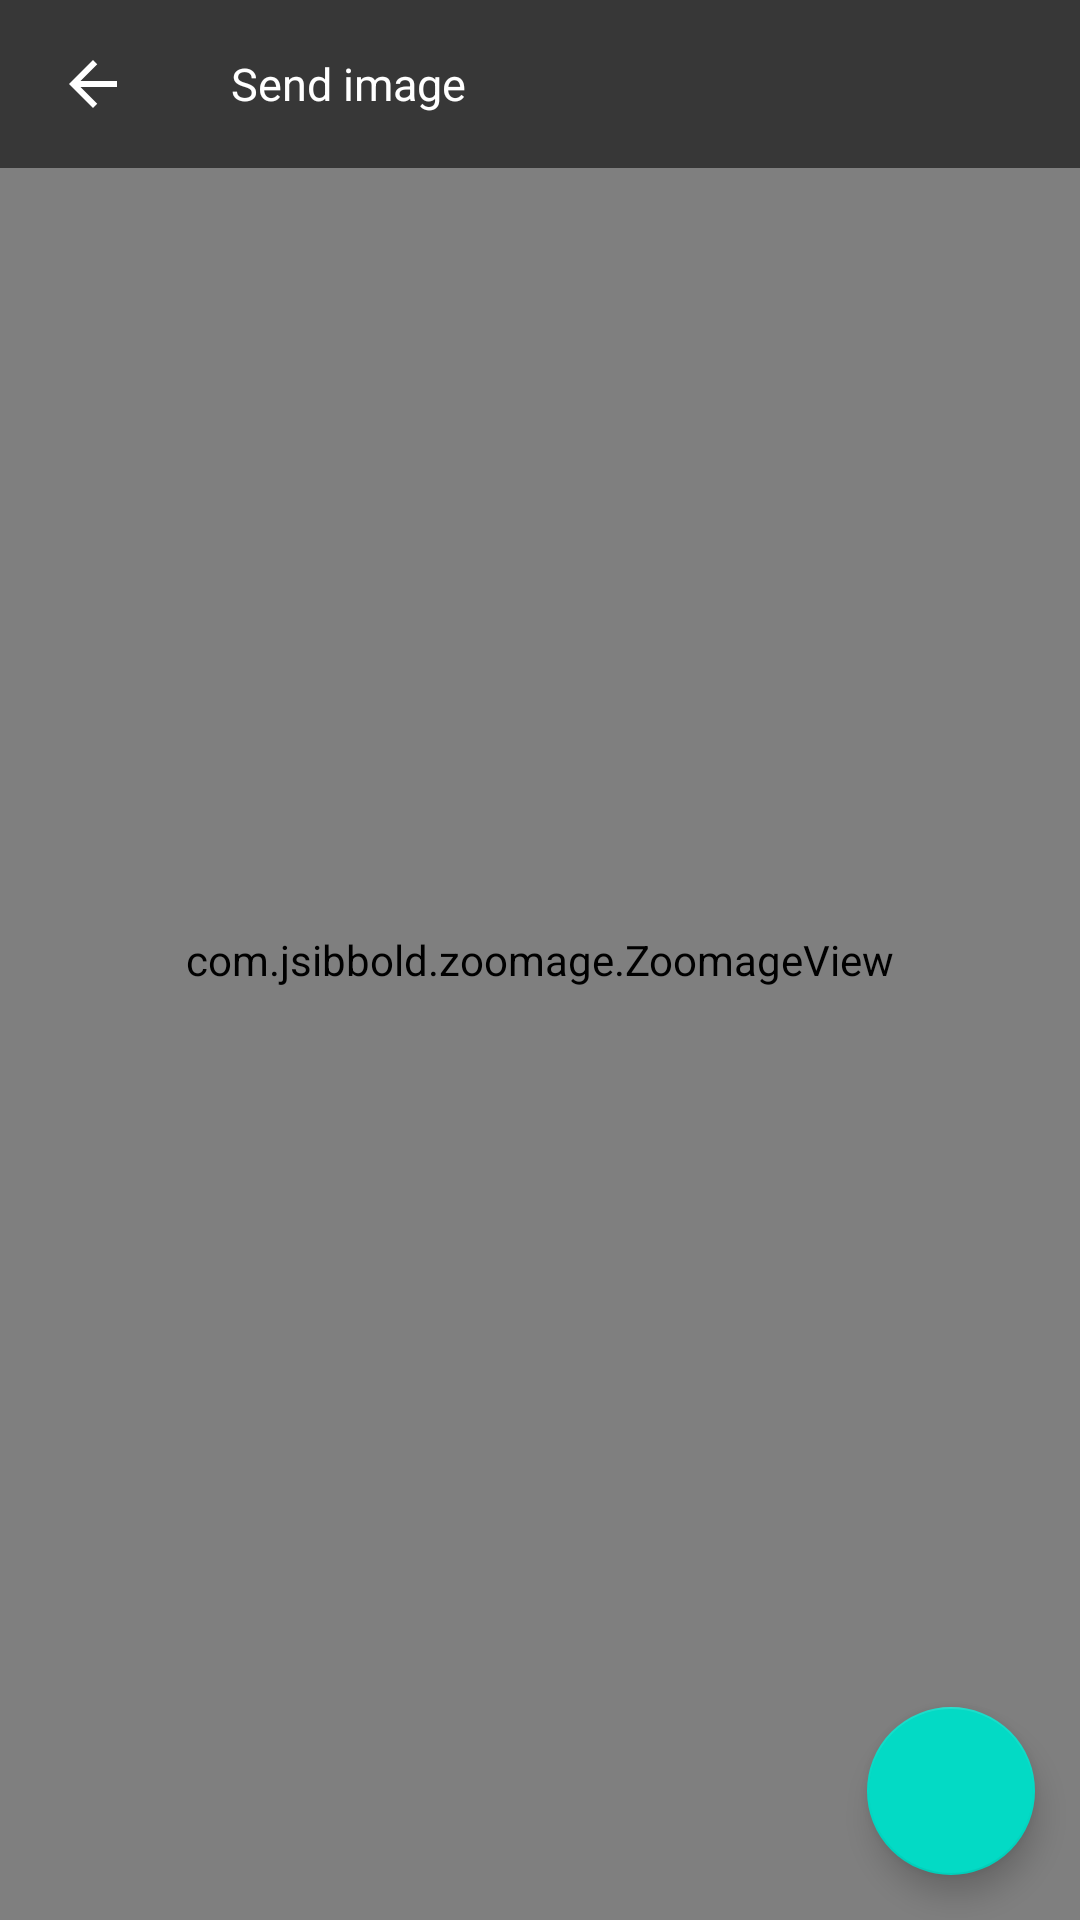

Icons on this 1080*1920 Android screen, each with the point to tap as (x=x, y=y):
arrow back: (x=93, y=84)
